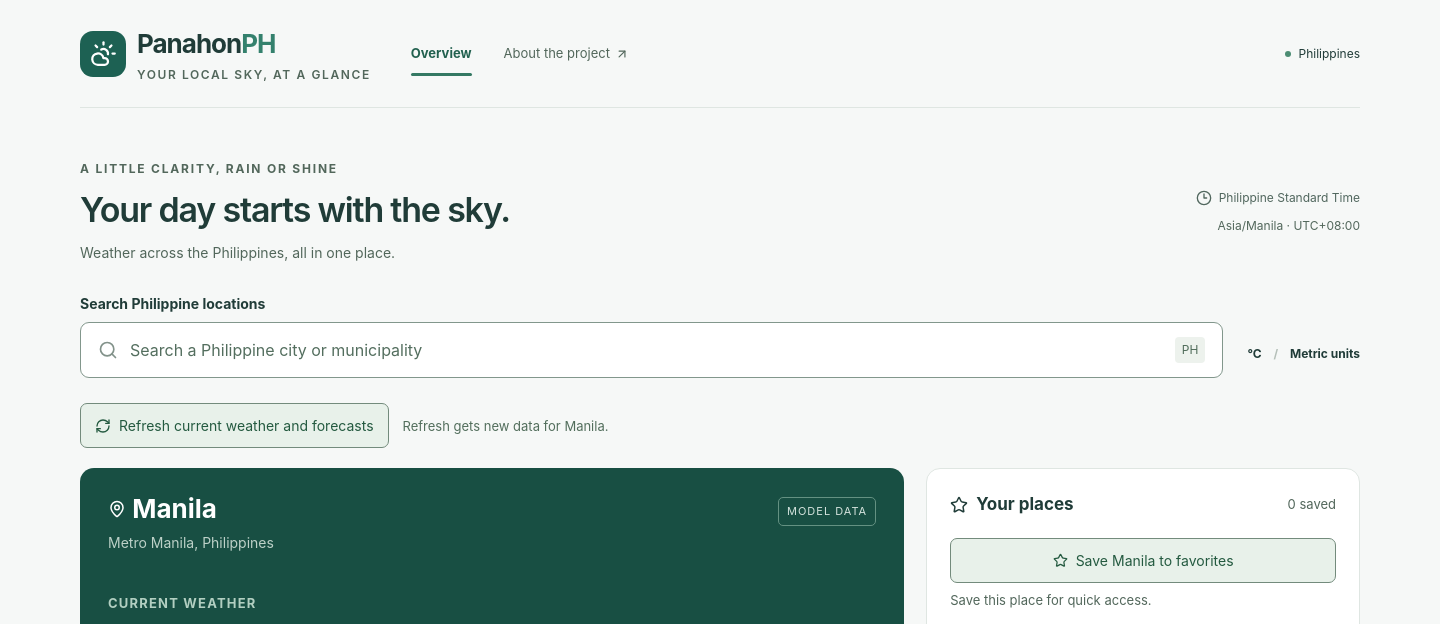
Scenario: forecast requests alongside current weather › keeps forecasts when refresh fails but updates successful current weather
Step 1. Click the button "Refresh current weather and forecasts" → (234, 426), box [80,403,388,448]
(page scrolled)
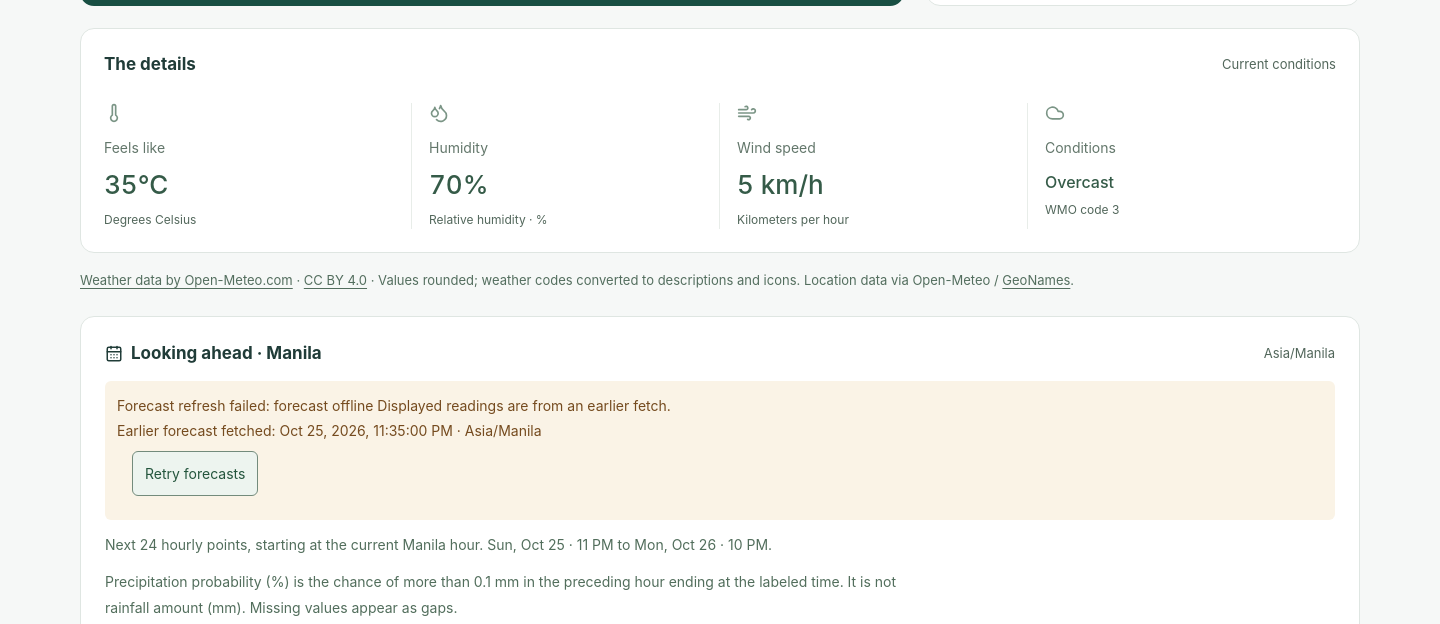
Now the text "Forecast refresh failed:" is shown, box [117,397,274,414]
